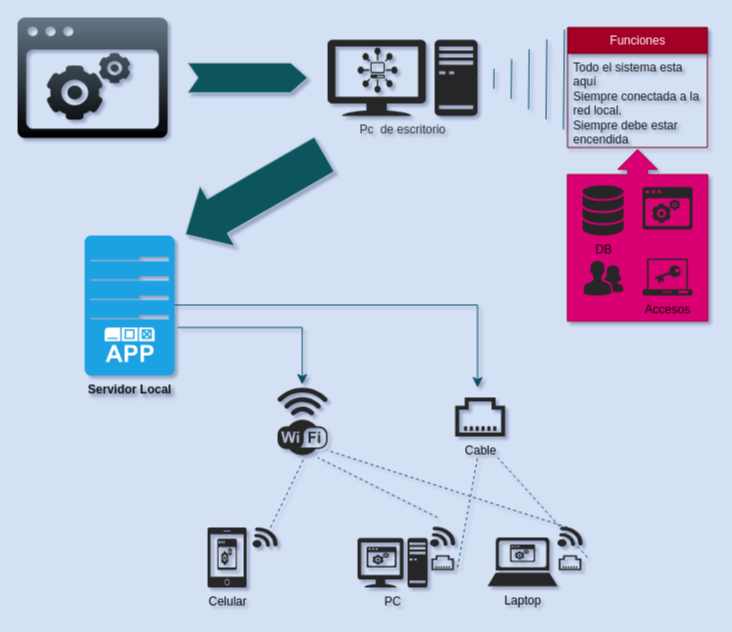
This 732x632 diagram has some shape labels left out. The centre of each missing label's shape, as x and y in pixels:
"Alojada en" belongs at point (247, 77).
"Aplicacion Web" belongs at point (92, 77).
"App" belongs at point (667, 207).
"Deudores" belongs at point (603, 277).
"Funciona como" belongs at point (254, 194).
